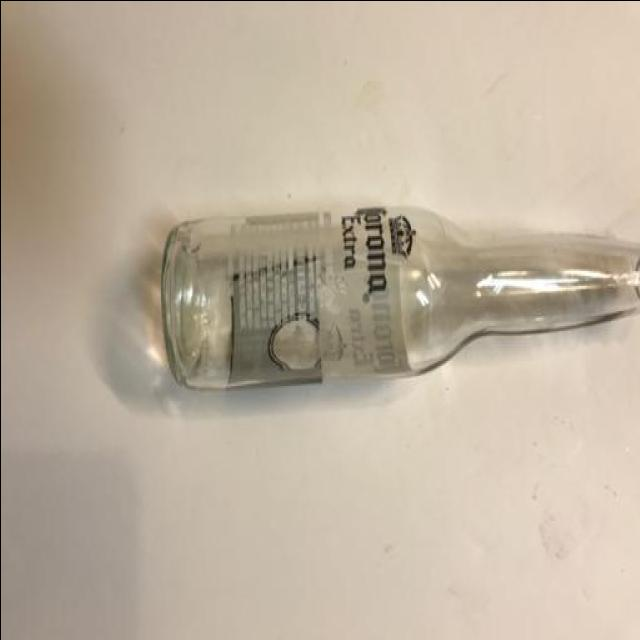glass: (140, 146, 638, 432)
